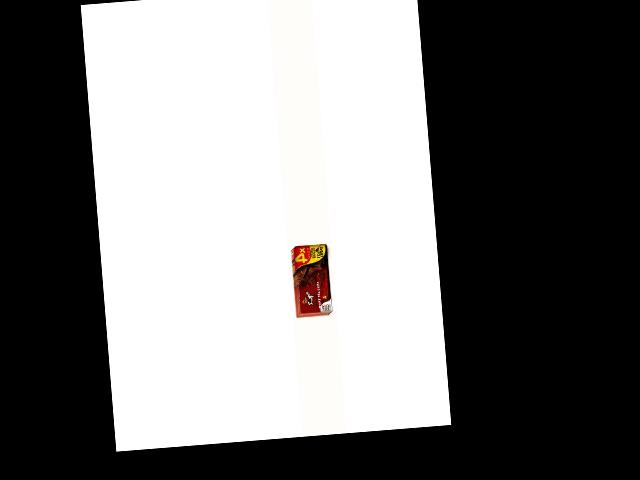chocolate: (291, 242, 334, 316)
